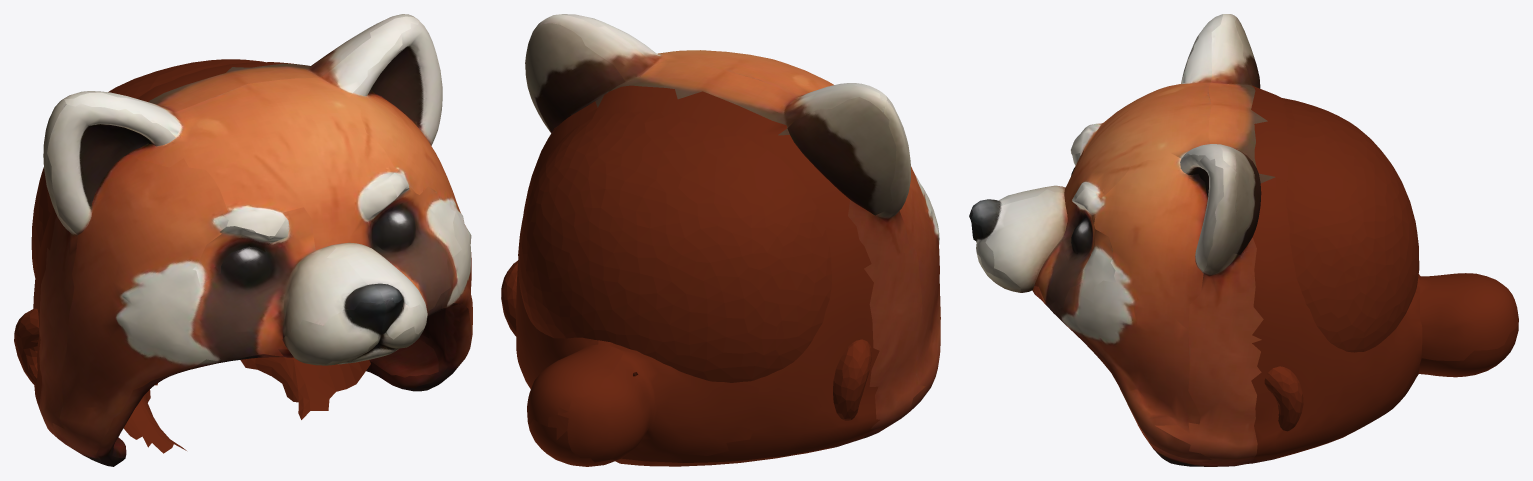
Rendered from red-panda.glb.
The picture shows the model from 3 angles, left to right: view 1: azimuth 30°, elevation 25°; view 2: azimuth 150°, elevation 25°; view 3: azimuth 270°, elevation 25°; orthographic projection. The views are drawn at different scales.
Visible parts, largest first — view 1: geometry_0, HoodAnatomicalLining; view 2: geometry_0, HoodAnatomicalLining; view 3: geometry_0, HoodAnatomicalLining.
Boxes of the visible parts, <box> form: geometry_0: <box>33,14,472,466</box>; HoodAnatomicalLining: <box>14,59,370,453</box>; geometry_0: <box>516,14,940,466</box>; HoodAnatomicalLining: <box>501,111,871,420</box>; geometry_0: <box>969,14,1518,466</box>; HoodAnatomicalLining: <box>1264,98,1419,431</box>.
Bounding box in the file's own units: 0.4908 × 0.4508 × 0.6725.
Materials: 2 (1 with a texture image).
